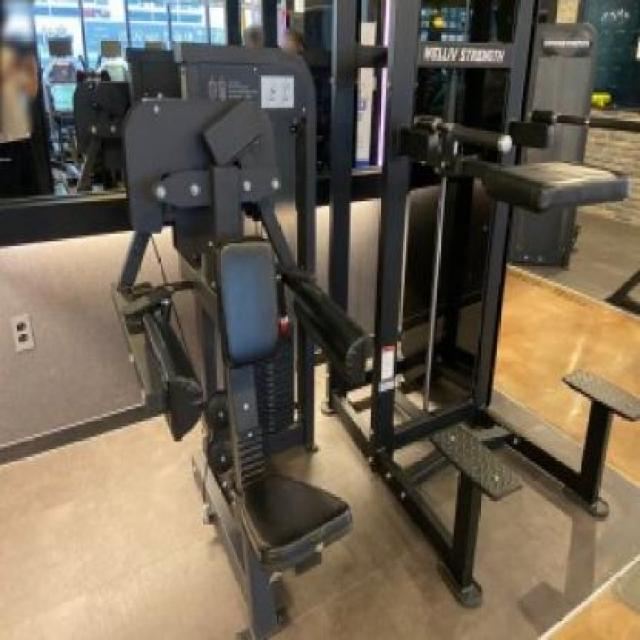lateral raises machine: (114, 92, 369, 640)
